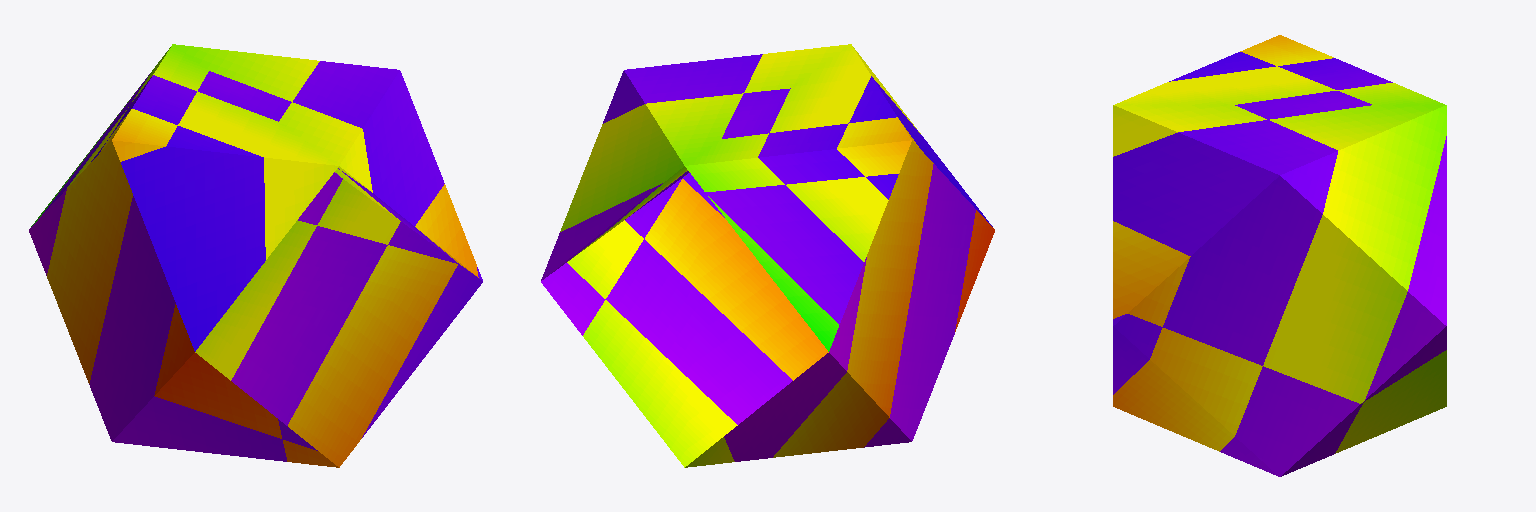
3 views of the same model, side by side, from view 1: azimuth 30°, elevation 25°; view 2: azimuth 150°, elevation 25°; view 3: azimuth 270°, elevation 25° (orthographic).
Visible parts, largest first — view 1: cuboctahedron_with_hole; view 2: cuboctahedron_with_hole; view 3: cuboctahedron_with_hole.
Part boxes in pixels (x1,y1,x2,y2): cuboctahedron_with_hole: (29,44,482,467); cuboctahedron_with_hole: (541,44,994,467); cuboctahedron_with_hole: (1113,35,1446,476).
Bounding box in the file's own units: 2 × 2 × 2.
Materials: 1 (1 with a texture image).